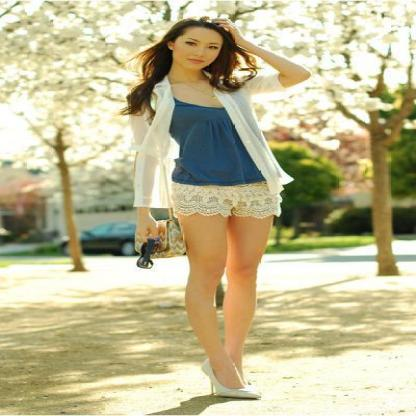bag: (162, 235, 193, 258)
jacket: (124, 75, 293, 207)
shirt: (170, 97, 265, 186)
shoe: (213, 377, 260, 400)
shorts: (164, 180, 282, 218)
